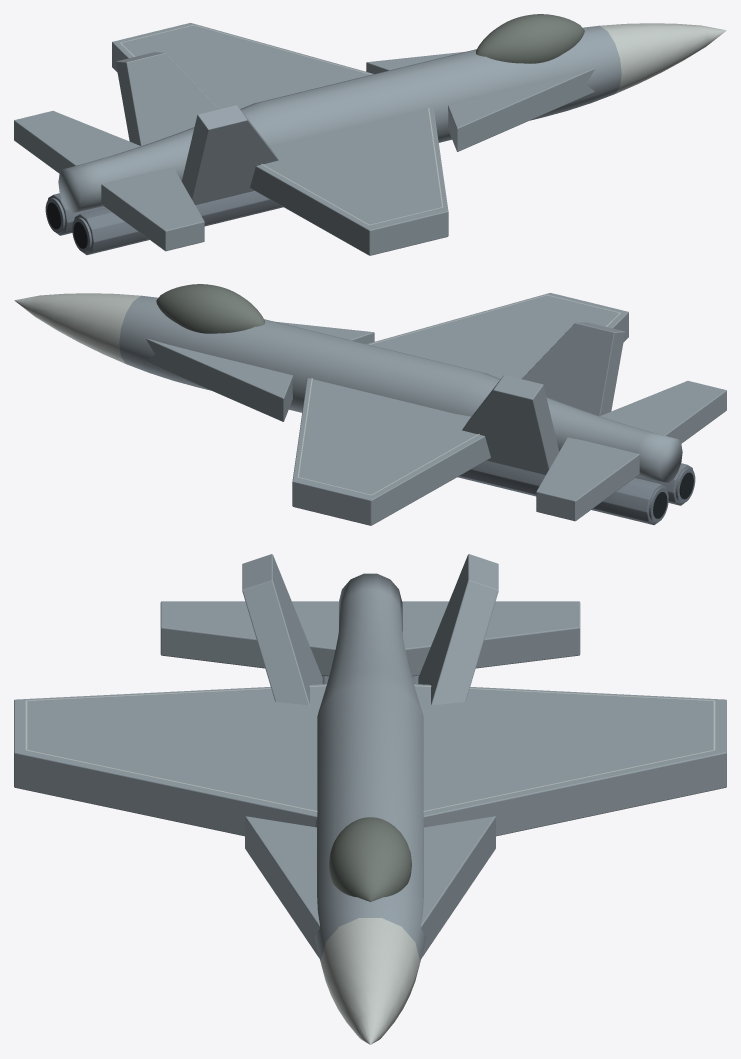
The model's file is rfn_uav_orion.glb.
3 views of the same model, one above another, from view 1: azimuth 30°, elevation 25°; view 2: azimuth 150°, elevation 25°; view 3: azimuth 270°, elevation 25° (orthographic). The views are drawn at different scales.
Parts seen in each view (by area): view 1: rfn_uav_orion; view 2: rfn_uav_orion; view 3: rfn_uav_orion.
Boxes of the visible parts, x1,y1,x2,y2 form: rfn_uav_orion: (14, 14, 726, 255); rfn_uav_orion: (14, 284, 726, 525); rfn_uav_orion: (14, 554, 726, 1044).
Size of the model in its own units: 10 by 1.92 by 6.77.
